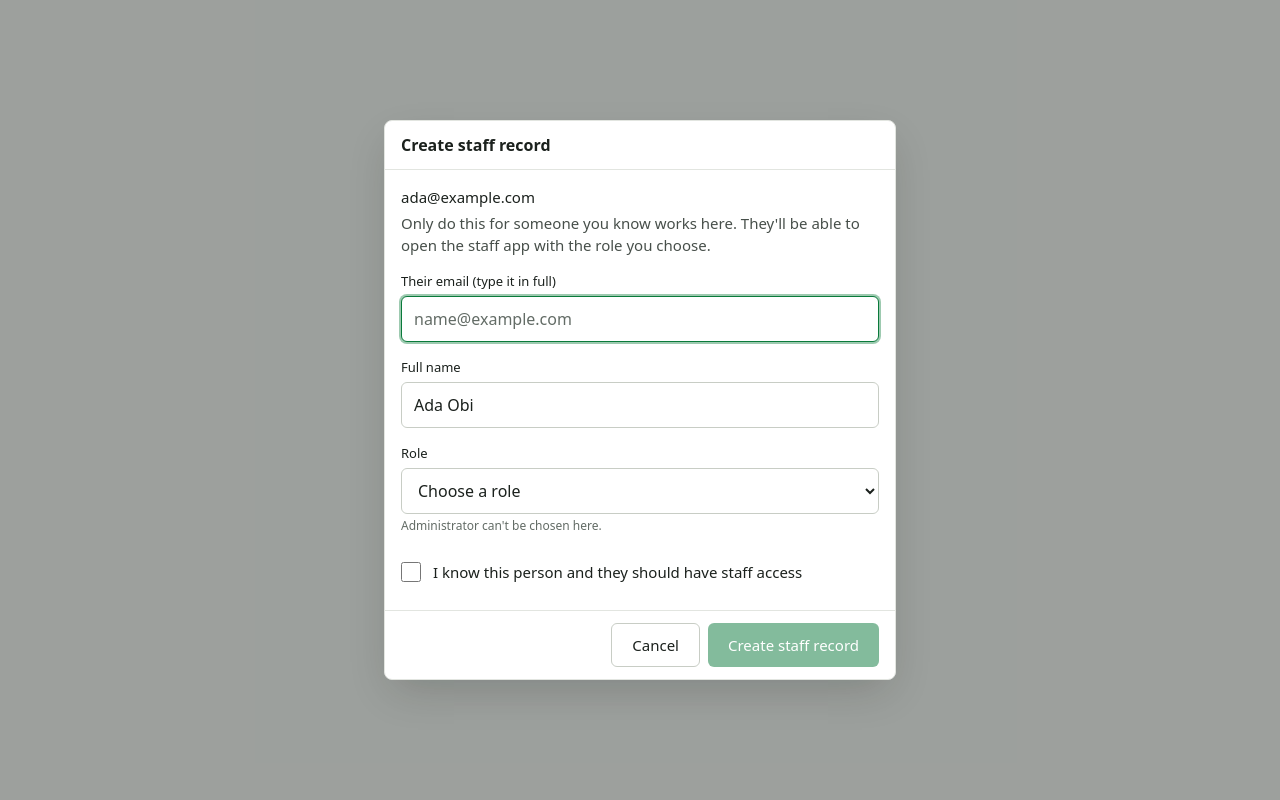
CreateStaffRecordDialog › needs a role
Type "ada@example.com" into the field labelled "Their email (type it in full)" at (640, 319), box [401, 296, 879, 342]
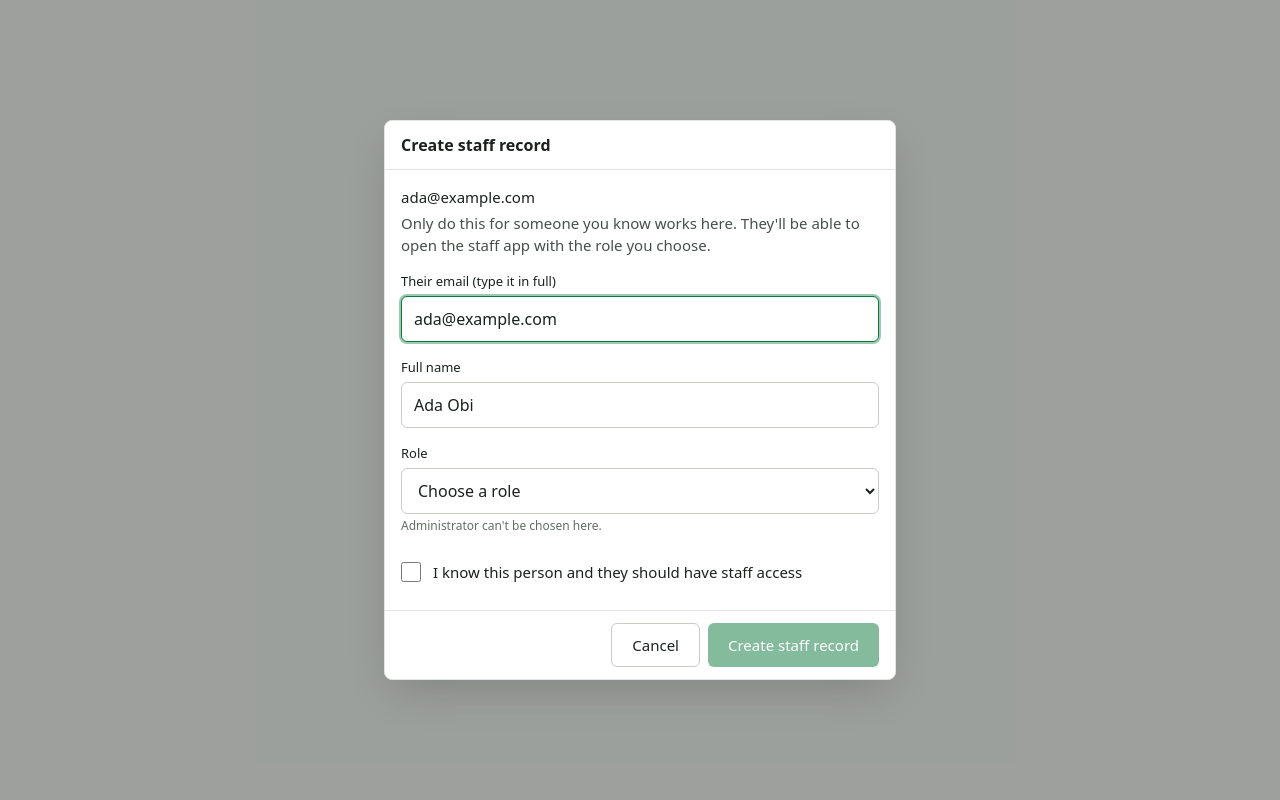
Click the checkbox labelled "I know this person and they should have staff access" at (411, 572), box [401, 562, 421, 582]
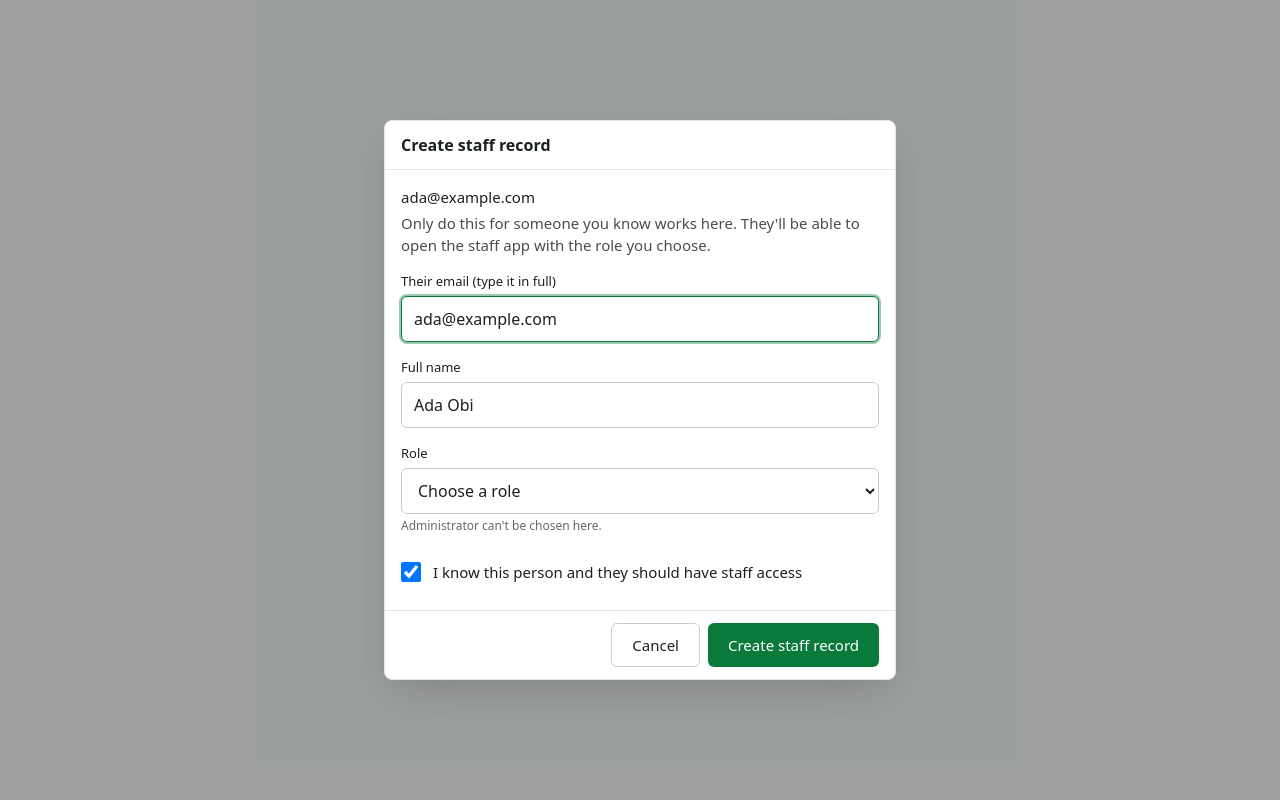
Click the button "Create staff record" at (794, 645), box [708, 623, 879, 667]
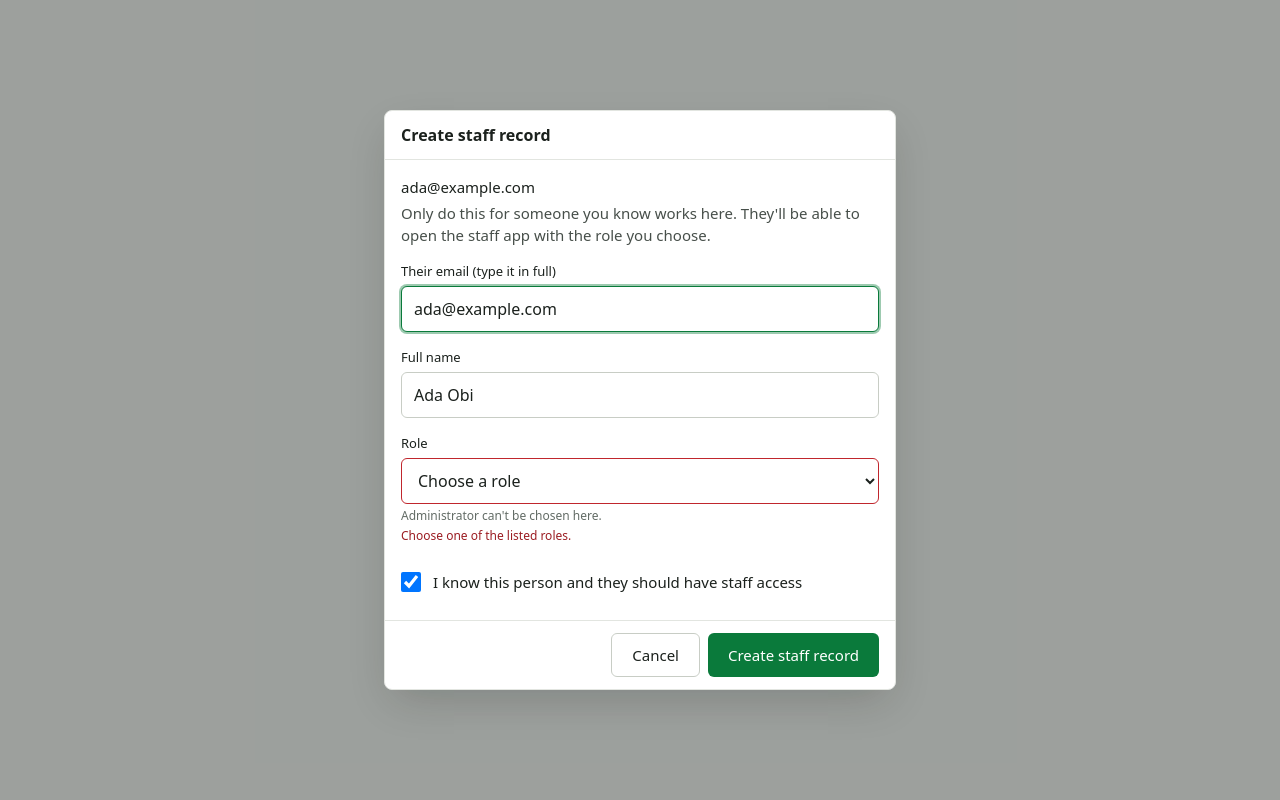
Expected: the text "Choose one of the listed roles." is shown, [401, 527, 571, 544]
